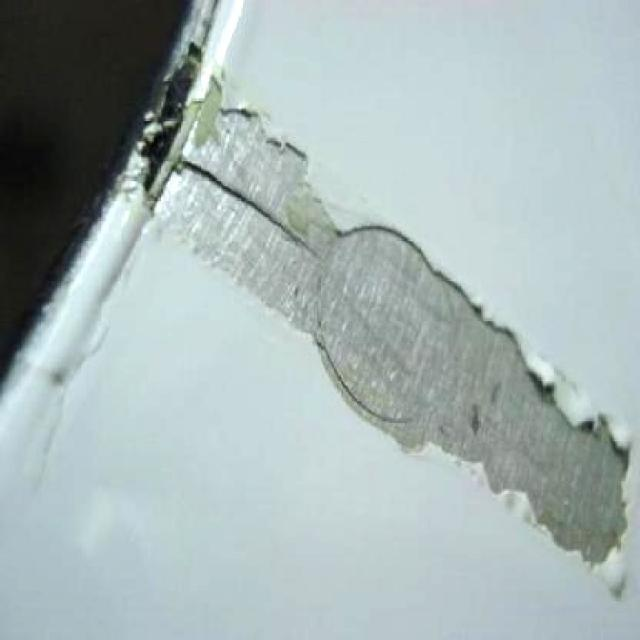crack: (181, 160, 250, 205), (253, 209, 318, 255)
